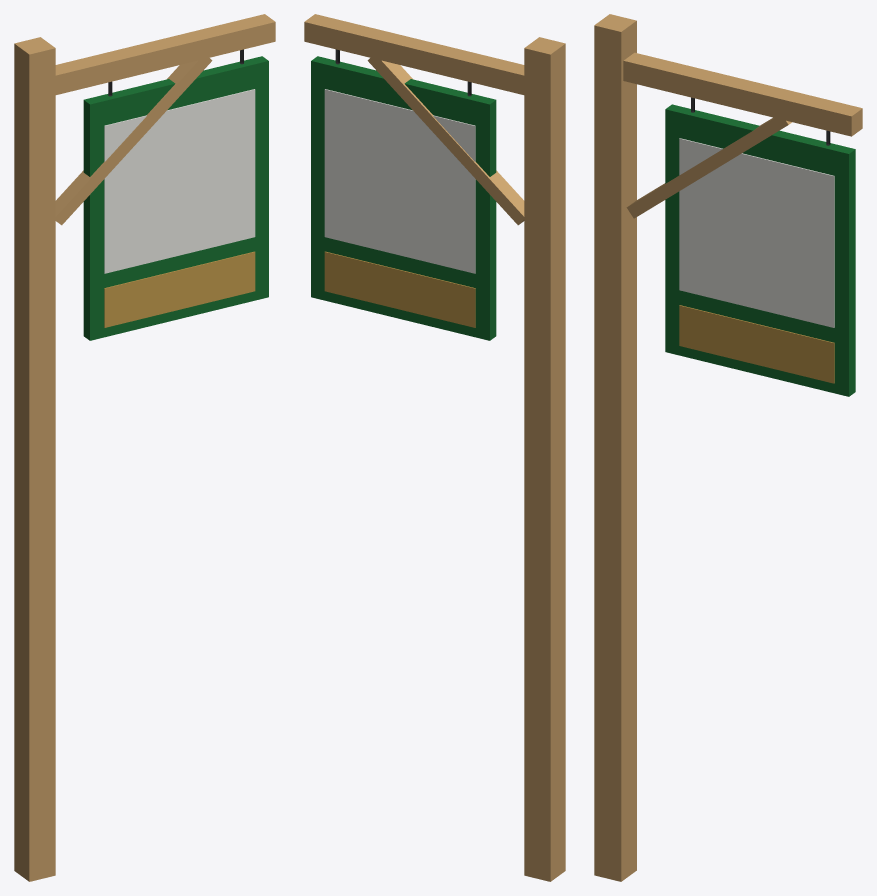
The model's file is hospitality.pub.sign.glb.
3 renders of one model, left to right at view 1: azimuth 30°, elevation 25°; view 2: azimuth 150°, elevation 25°; view 3: azimuth 330°, elevation 25°, orthographic. The views are drawn at different scales.
Visible parts, largest first — view 1: main__glulam, main__paint_white, main__plastic_green, main__brass; view 2: main__glulam, main__paint_white, main__plastic_green, main__brass; view 3: main__glulam, main__paint_white, main__plastic_green, main__brass.
Boxes of the visible parts, left/top/right/bottom form: main__glulam: left=14, top=14, right=275, bottom=881; main__paint_white: left=104, top=89, right=255, bottom=273; main__plastic_green: left=83, top=56, right=268, bottom=340; main__brass: left=104, top=251, right=255, bottom=327; main__glulam: left=304, top=14, right=565, bottom=881; main__paint_white: left=324, top=89, right=475, bottom=273; main__plastic_green: left=311, top=56, right=496, bottom=340; main__brass: left=324, top=251, right=475, bottom=327; main__glulam: left=594, top=14, right=862, bottom=881; main__paint_white: left=679, top=138, right=834, bottom=327; main__plastic_green: left=665, top=104, right=855, bottom=396; main__brass: left=679, top=305, right=834, bottom=383.
Size of the model in its own units: 1.32 by 4.2 by 0.14.
